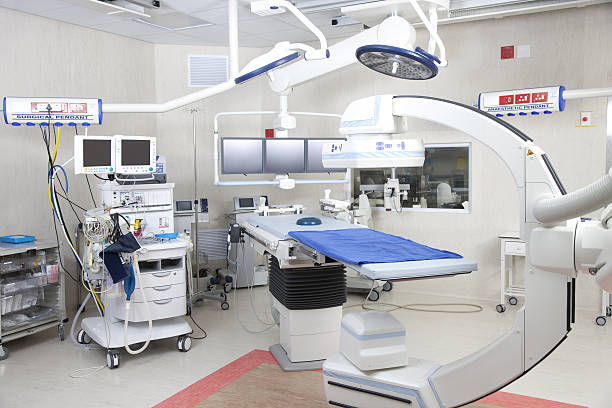bedside_monitor: (217, 136, 266, 177), (261, 139, 308, 180), (305, 141, 350, 179), (115, 137, 157, 174), (78, 138, 112, 173)
breathing_tube: (121, 299, 154, 356)
iv_pole: (182, 108, 226, 311)
medical_drawer: (111, 268, 196, 322)
operating_bed: (237, 211, 480, 374)
surgical_light: (234, 39, 303, 91), (354, 43, 441, 83), (319, 139, 426, 170)
utility_cart: (495, 227, 612, 326), (1, 230, 70, 364)
ventilator: (76, 181, 195, 336)
